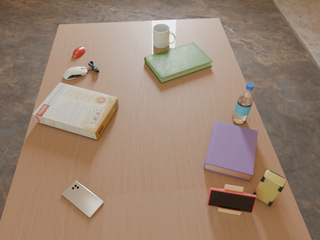book: (204, 121, 258, 181), (145, 42, 213, 83)
bottle: (232, 83, 254, 124)
box: (33, 83, 119, 139)
cup: (153, 24, 175, 48)
mouse: (63, 67, 88, 80), (73, 47, 86, 58)
phone: (62, 181, 104, 218), (207, 188, 257, 213)
toy_car: (253, 170, 286, 206)
